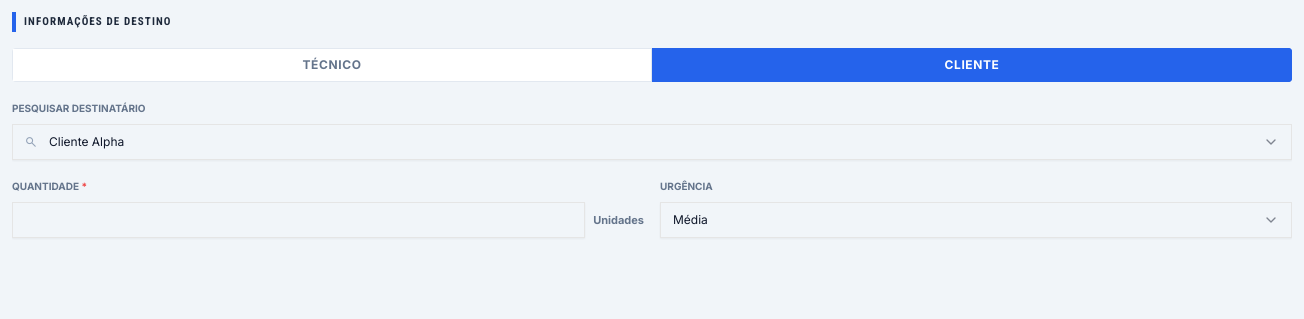
it: NovoPedidoDestinoSection › botão Técnico: zera destino cliente, flags de remetente e permite buscar técnico de novo
Click the button "Técnico": click(332, 65) [12,48,652,82]
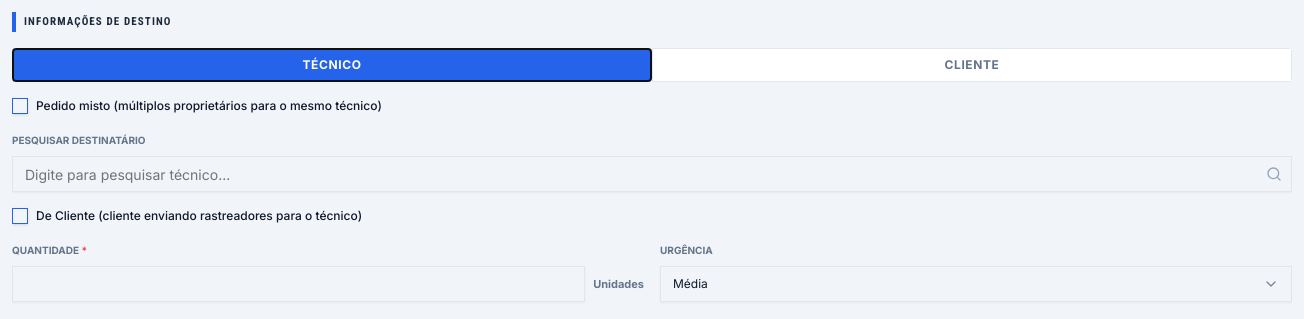
Expected: the field with placeholder "Digite para pesquisar técnico..." is shown, [12,156,1292,192]
Expected: the 1st checkbox named "Pedido misto" is shown, [12,98,28,114]
